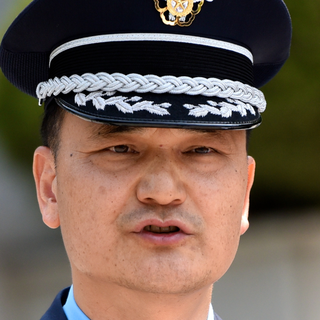eye: (92, 140, 144, 163)
